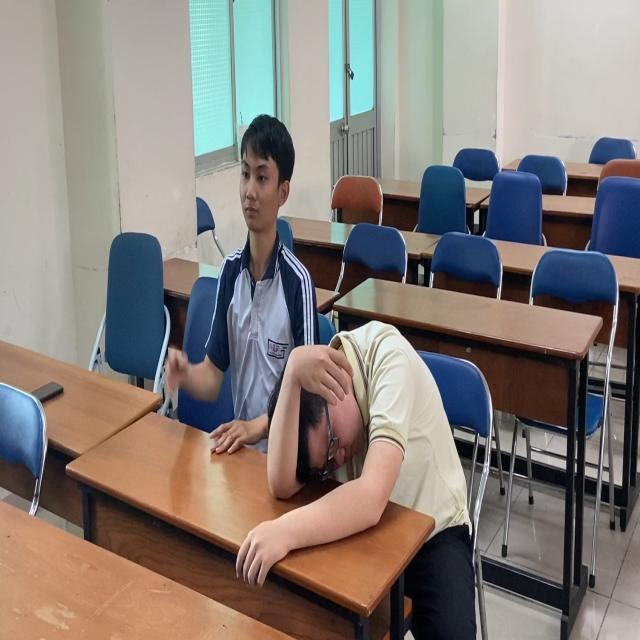sleep: (260, 323, 472, 562)
